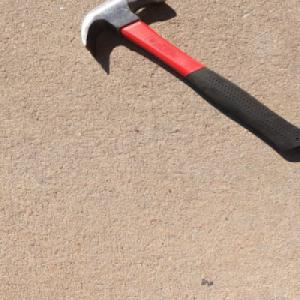Hammer: (77, 0, 300, 154)
